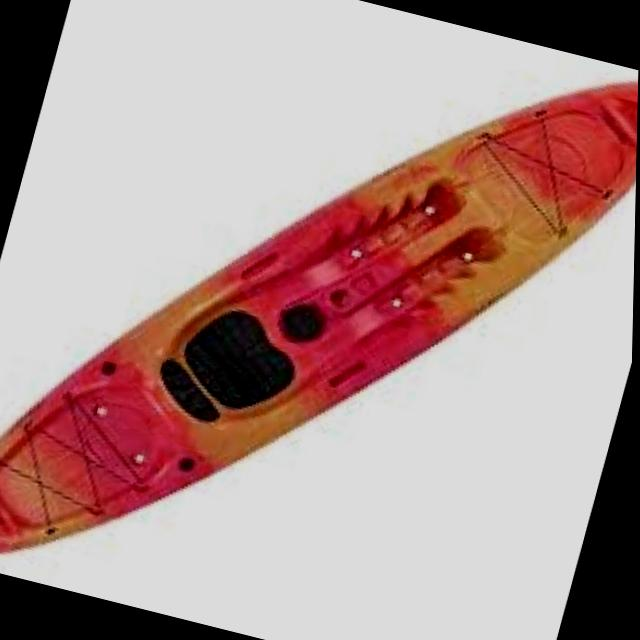ship2: (0, 81, 639, 556)
